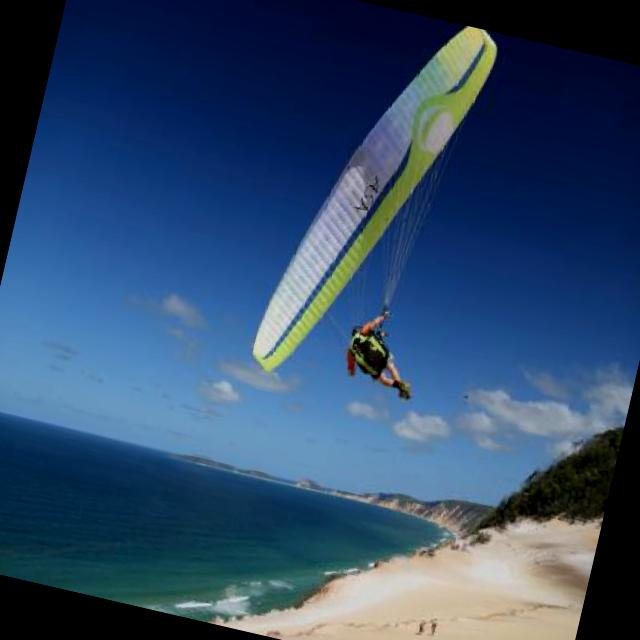Person: (338, 293, 420, 407)
